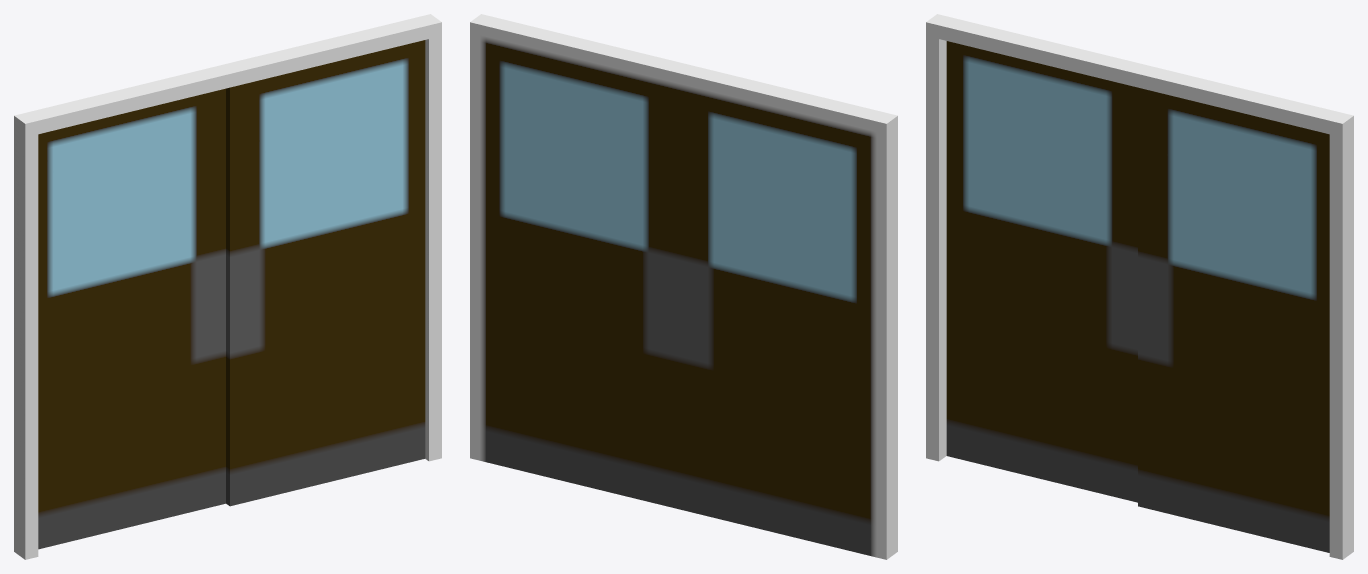
Rendered from DoubleDoor01.fbx.
The picture shows the model from 3 angles, left to right: view 1: azimuth 30°, elevation 25°; view 2: azimuth 150°, elevation 25°; view 3: azimuth 330°, elevation 25°; orthographic projection.
Parts seen in each view (by area): view 1: Matrix; view 2: Matrix; view 3: Matrix.
Part boxes in pixels (x1=…): Matrix: x1=14, y1=14, x2=441, y2=559; Matrix: x1=470, y1=14, x2=897, y2=559; Matrix: x1=926, y1=14, x2=1353, y2=559.
Bounding box in the file's own units: 64 × 64 × 3.
